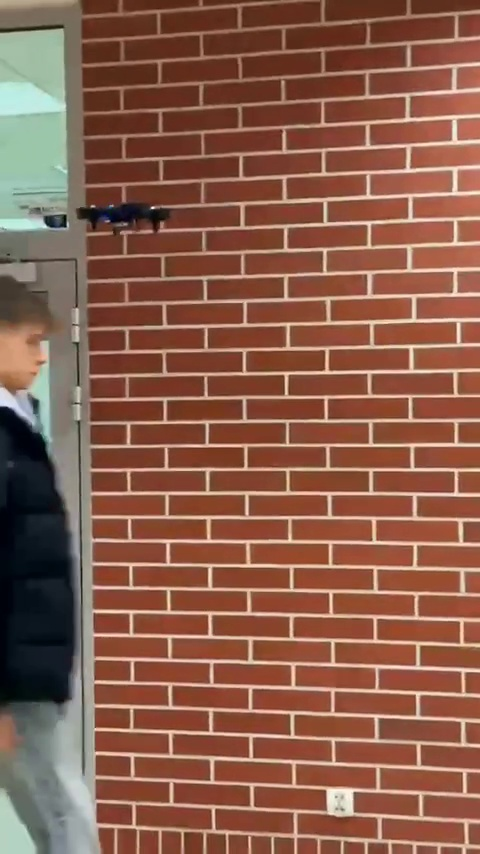drone: (74, 201, 170, 234)
no vest: (0, 274, 128, 844)
